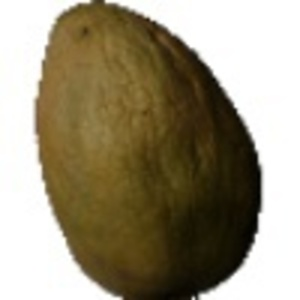mamão: (22, 3, 265, 298)
